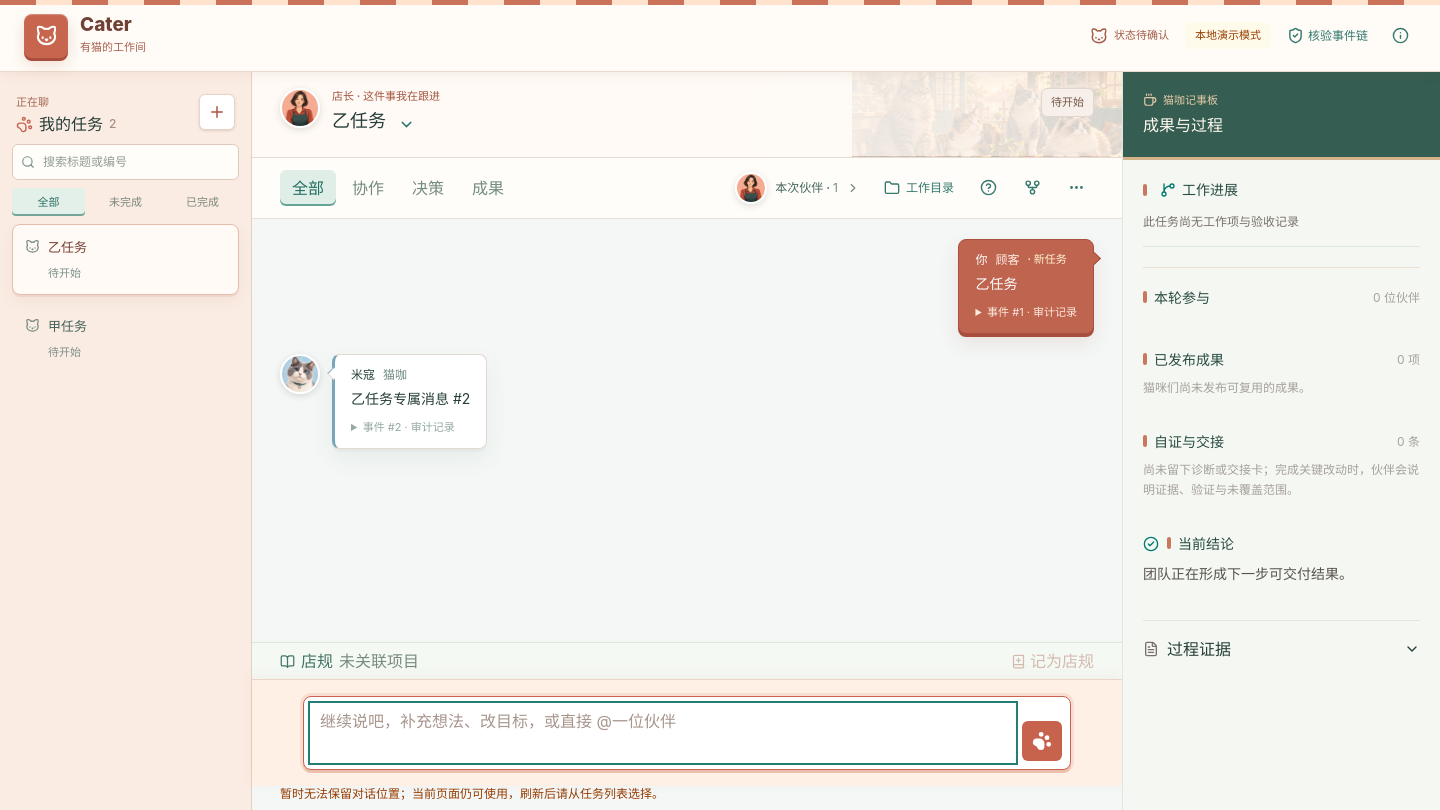
Test: 输入框点名建议随任务关闭，草稿仍归属于原任务
In the text box named "向团队发送消息": (663, 733) [312,705,1014,761], type "@店"
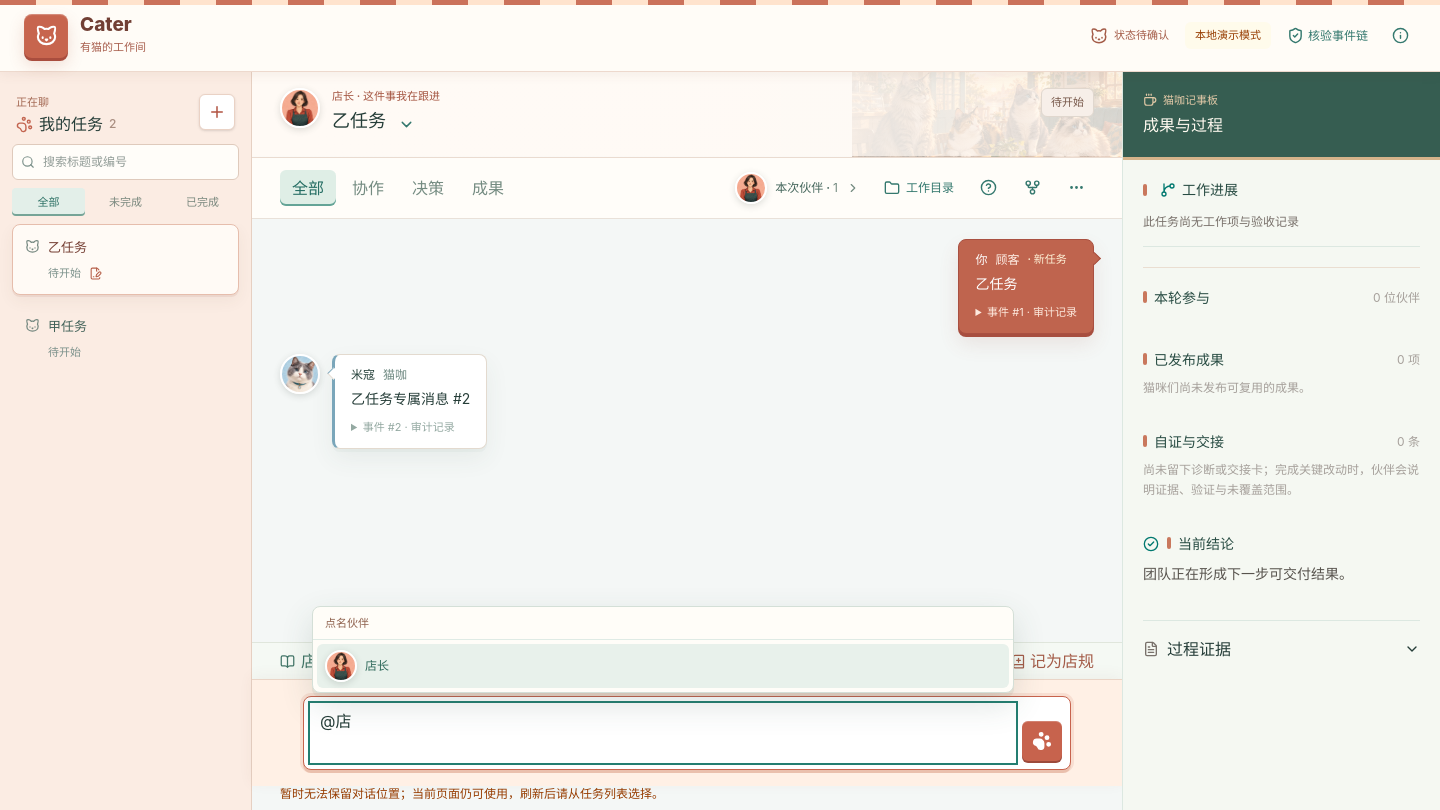
Result: the option "店长" is shown at [317,644,1009,688]
Click the button "甲任务 待开始": (126, 338) [12,302,239,373]
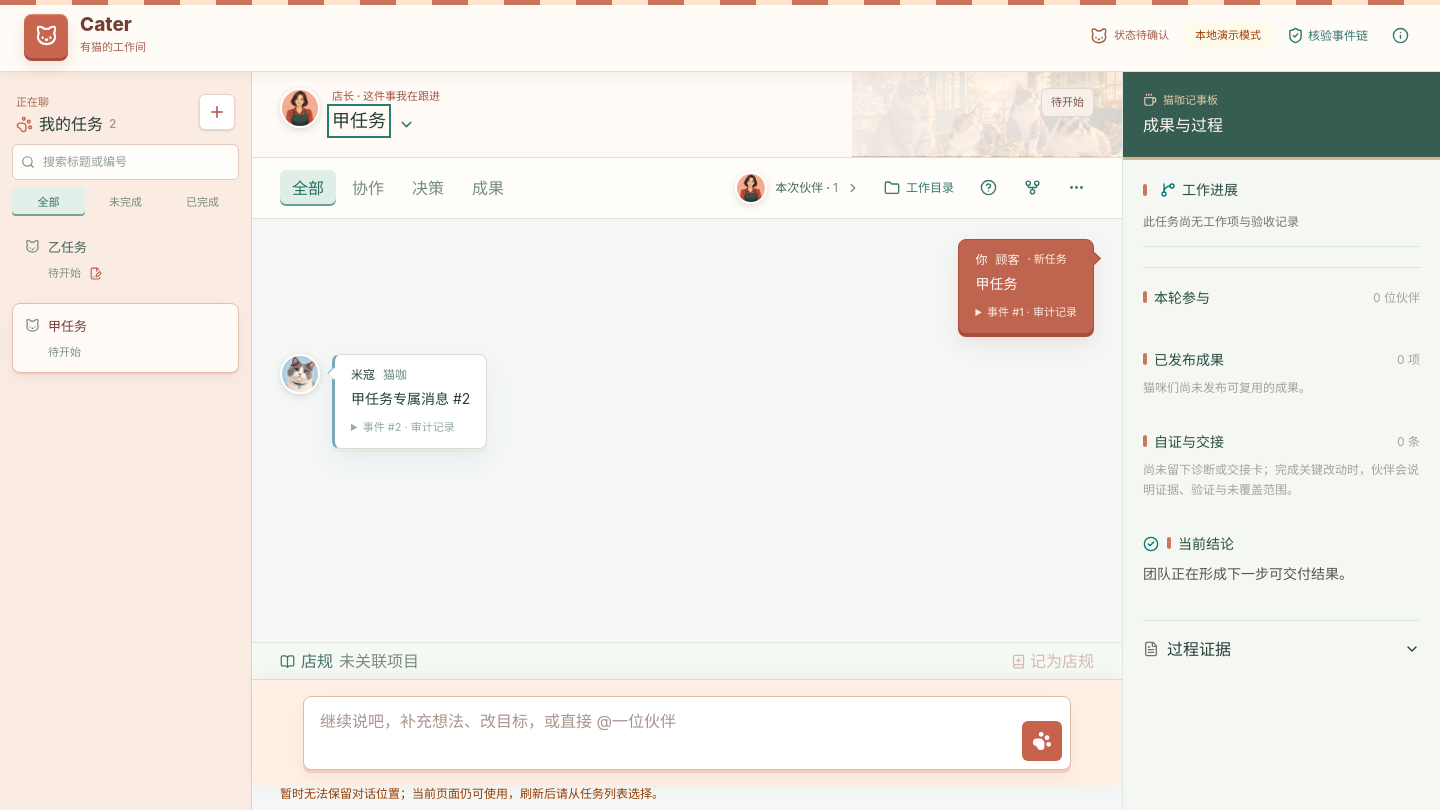
Result: the list is gone
Result: the text box named "向团队发送消息" is empty at [312,705,1014,761]
Click the button "乙任务 待开始": (126, 259) [12,224,239,294]
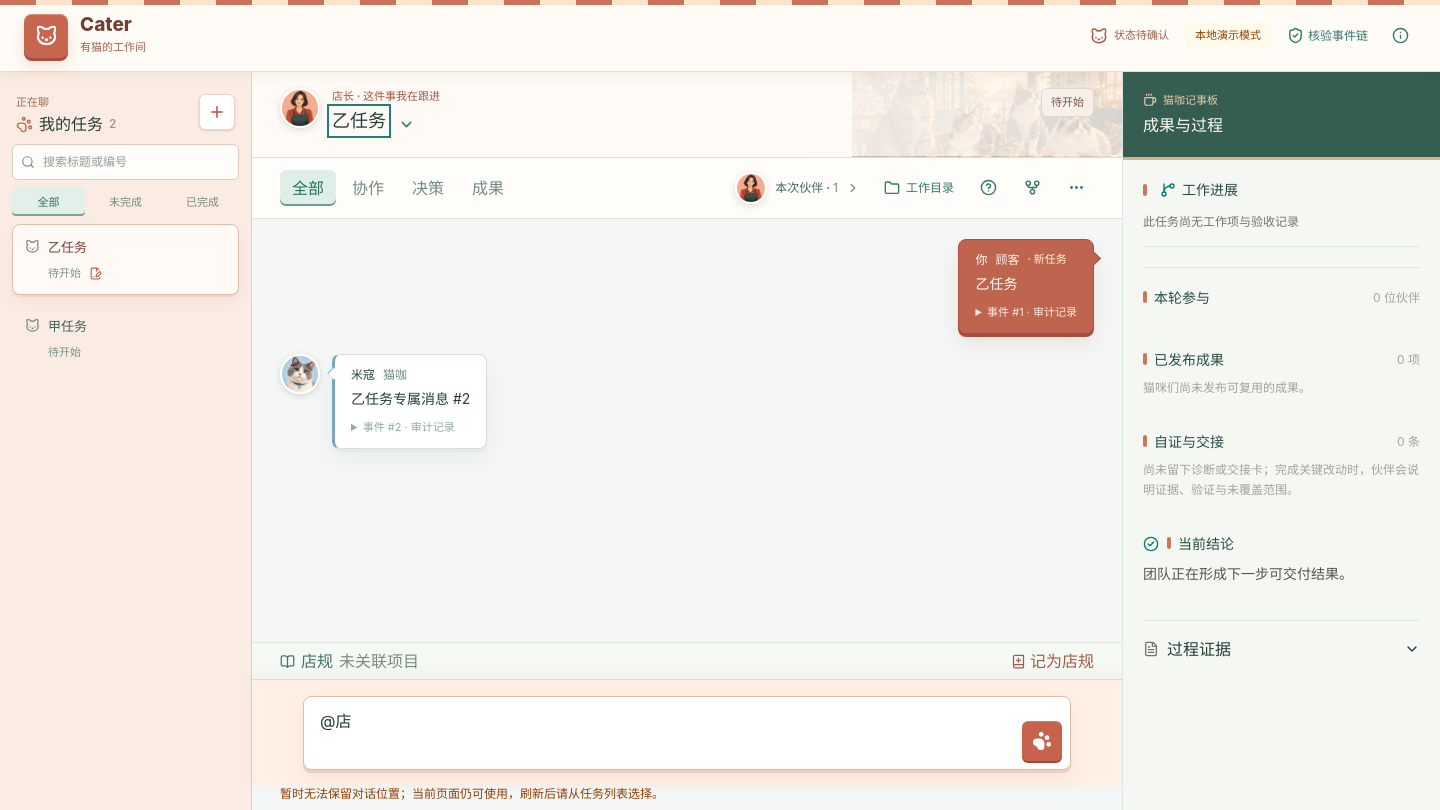
Result: the text box named "向团队发送消息" holds "@店" at [312,705,1014,761]
